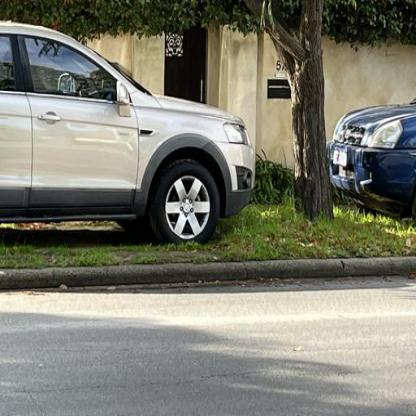Tire: (150, 157, 219, 246)
